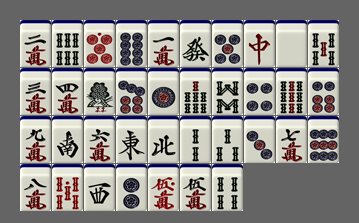0m: (148, 164, 179, 211)
0p: (84, 20, 115, 67)
0s: (52, 164, 83, 211)
1m: (148, 20, 179, 67)
1p: (148, 68, 179, 115)
1s: (84, 68, 115, 115)
1z: (116, 116, 147, 163)
2m: (20, 20, 51, 67)
2p: (116, 164, 147, 211)
2s: (180, 116, 211, 163)
2z: (52, 116, 83, 163)
3m: (20, 68, 51, 115)
3p: (244, 116, 275, 163)
3s: (212, 116, 243, 163)
3z: (84, 164, 115, 211)
4m: (52, 68, 83, 115)
4p: (244, 68, 275, 115)
4s: (212, 164, 243, 211)
4z: (148, 116, 179, 163)
5m: (180, 164, 211, 211)
5p: (212, 20, 243, 67)
5s: (308, 20, 339, 67)
5z: (276, 20, 307, 67)
6m: (84, 116, 115, 163)
6p: (308, 68, 339, 115)
6s: (52, 20, 83, 67)
6z: (180, 20, 211, 67)
7m: (276, 116, 307, 163)
7p: (116, 68, 147, 115)
7s: (180, 68, 211, 115)
7z: (244, 20, 275, 67)
8m: (20, 164, 51, 211)
8p: (116, 20, 147, 67)
8s: (212, 68, 243, 115)
9m: (20, 116, 51, 163)
9p: (308, 116, 339, 163)
9s: (276, 68, 307, 115)
